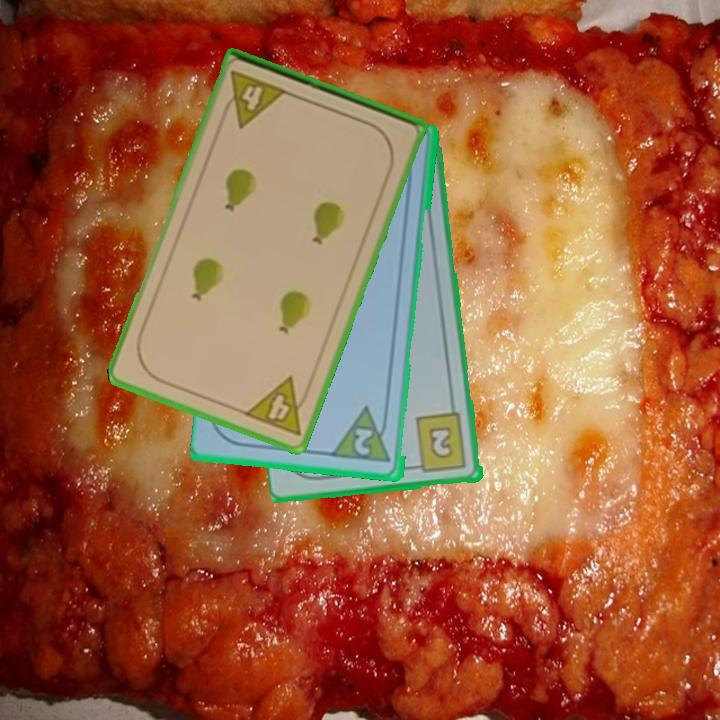2b: (408, 410, 470, 476)
2p: (351, 425, 378, 459)
4p: (240, 373, 315, 439), (217, 67, 290, 131)
